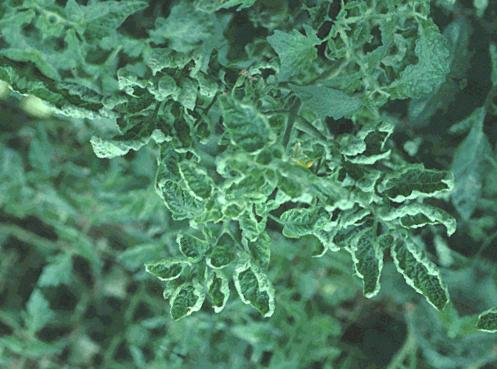Tomato leaf yellow virus: (369, 132, 497, 243), (362, 218, 474, 318), (369, 180, 483, 259), (192, 78, 292, 168), (158, 145, 246, 225), (338, 232, 409, 313), (139, 158, 215, 230), (159, 255, 221, 335), (218, 257, 289, 320), (127, 234, 201, 292)
